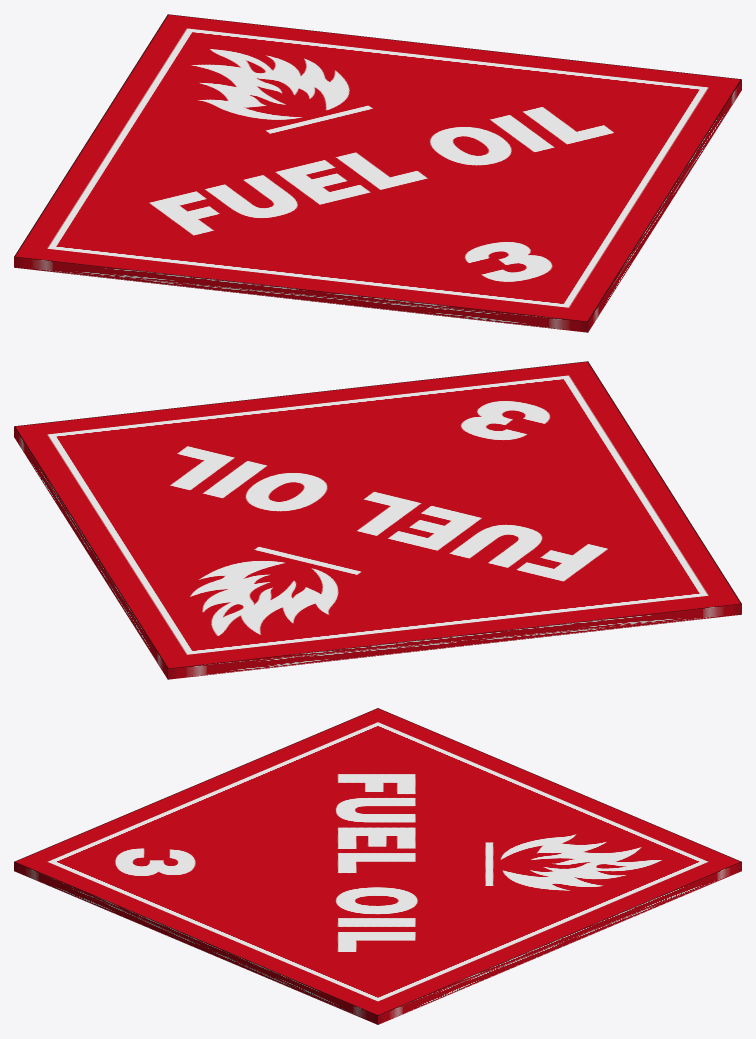
File: hazmat_fuel-oil.dae
3 renders of one model, top to bottom at view 1: azimuth 30°, elevation 25°; view 2: azimuth 150°, elevation 25°; view 3: azimuth 270°, elevation 25°, orthographic. The views are drawn at different scales.
Visible parts, largest first — view 1: Sign_Material.017; view 2: Sign_Material.017; view 3: Sign_Material.017.
Part boxes in pixels (x1,y1,x2,y2): Sign_Material.017: (14, 14, 741, 332); Sign_Material.017: (14, 361, 741, 679); Sign_Material.017: (14, 708, 741, 1024).
Bounding box in the file's own units: 0.1414 × 0.1414 × 0.002.
1 material, 1 textured.
